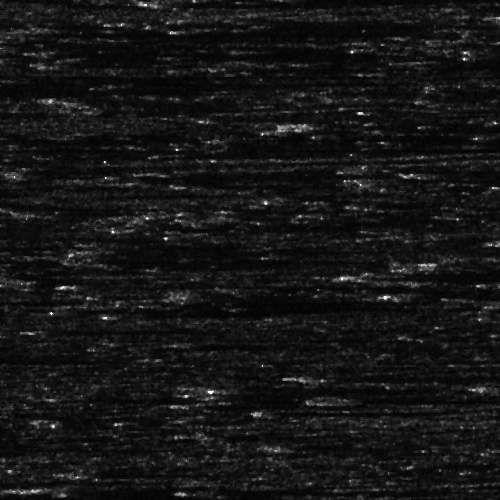object: (303, 269, 408, 282), (228, 123, 353, 132), (0, 483, 104, 492), (449, 233, 500, 250), (281, 372, 364, 381), (302, 393, 375, 402), (264, 440, 305, 449), (129, 0, 202, 4), (193, 385, 246, 390), (459, 381, 500, 386), (0, 29, 40, 34), (79, 471, 110, 476)
shadow: (51, 483, 499, 492), (0, 144, 459, 149), (356, 269, 500, 282), (0, 490, 178, 500), (338, 393, 500, 402), (285, 440, 441, 449), (323, 372, 478, 381), (0, 347, 123, 358), (2, 45, 330, 48), (291, 123, 376, 132), (94, 471, 246, 476), (220, 385, 371, 390), (0, 478, 119, 483), (20, 29, 103, 34), (166, 0, 251, 4)
